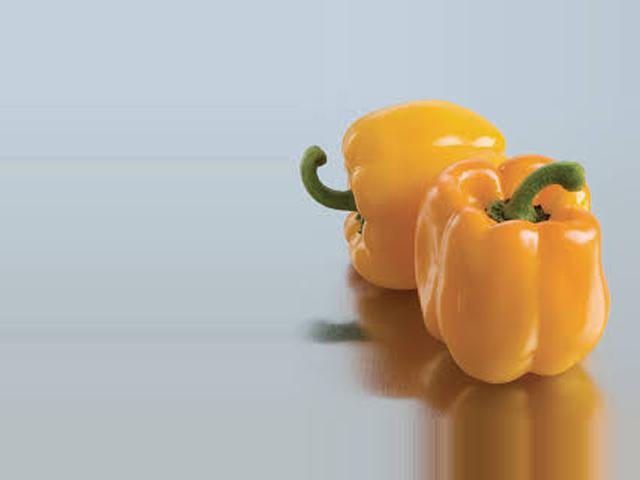bell_pepper: (302, 99, 512, 322)
